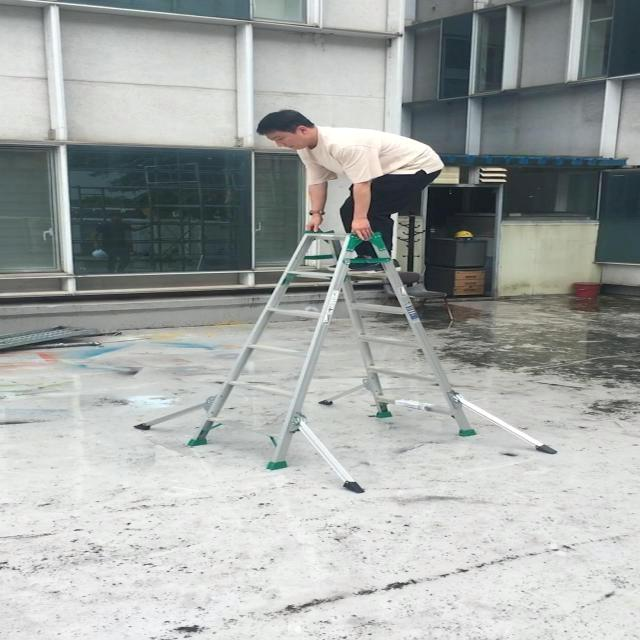face_nomask: (266, 132, 300, 152)
hand_noglove: (347, 217, 375, 242), (303, 214, 326, 240)
head_nohelmet: (253, 106, 304, 132)
person: (243, 95, 447, 279)
